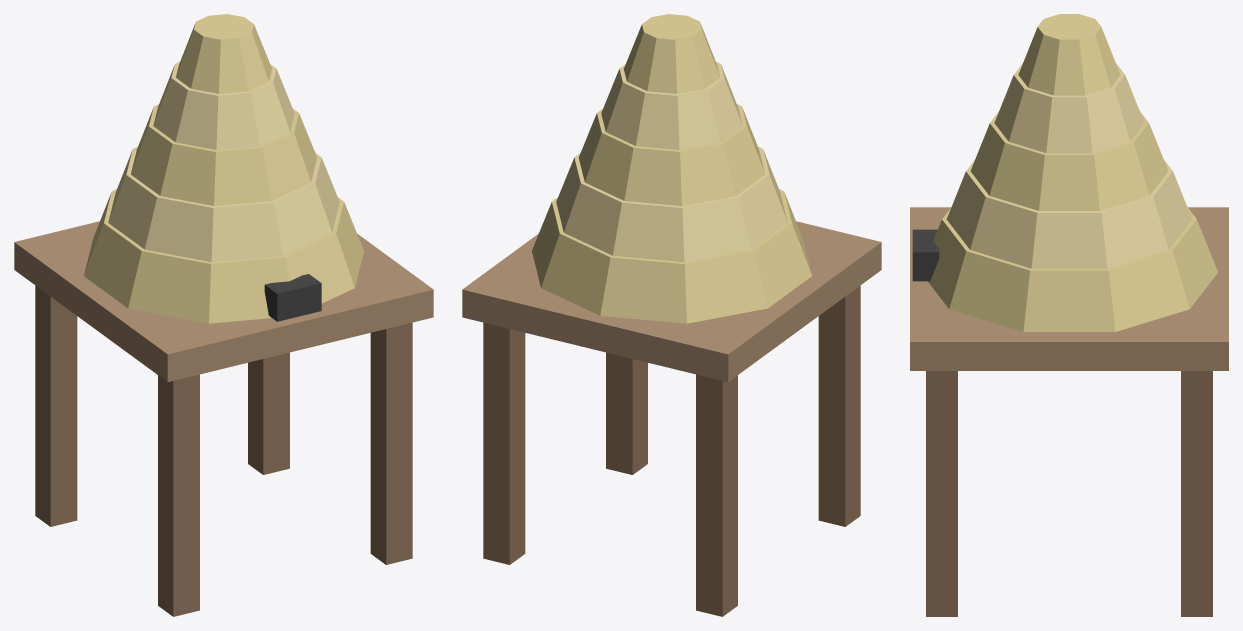
Rendered from beehive.glb.
3 renders of one model, left to right at view 1: azimuth 30°, elevation 25°; view 2: azimuth 150°, elevation 25°; view 3: azimuth 270°, elevation 25°, orthographic. The views are drawn at different scales.
Parts seen in each view (by area): view 1: beehive; view 2: beehive; view 3: beehive.
Part boxes in pixels (bbox=[...]): beehive: bbox=[14, 14, 433, 616]; beehive: bbox=[462, 14, 881, 616]; beehive: bbox=[910, 14, 1228, 616].
Bounding box in the file's own units: 0.6 × 1.1 × 0.6.
